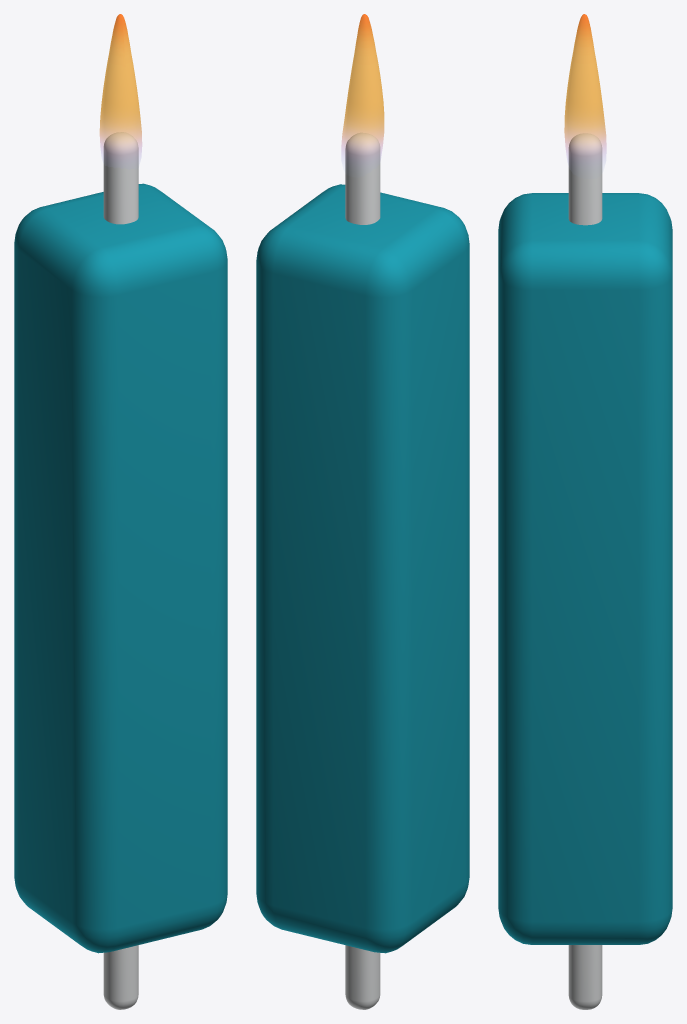
Rendered from JapaneseTall.glb.
The picture shows the model from 3 angles, left to right: view 1: azimuth 30°, elevation 25°; view 2: azimuth 150°, elevation 25°; view 3: azimuth 270°, elevation 25°; orthographic projection.
Parts seen in each view (by area): view 1: XBase.002, XRope01.002, Flame; view 2: XBase.002, XRope01.002, Flame; view 3: XBase.002, XRope01.002, Flame.
Part boxes in pixels (x1=…): XBase.002: x1=14, y1=183, x2=227, y2=953; XRope01.002: x1=103, y1=132, x2=138, y2=1009; Flame: x1=99, y1=14, x2=142, y2=164; XBase.002: x1=256, y1=184, x2=469, y2=953; XRope01.002: x1=345, y1=133, x2=380, y2=1009; Flame: x1=341, y1=14, x2=384, y2=165; XBase.002: x1=498, y1=193, x2=672, y2=944; XRope01.002: x1=568, y1=133, x2=602, y2=1009; Flame: x1=564, y1=14, x2=606, y2=165.
Size of the model in its own units: 0.3674 by 2.31 by 0.3674.
3 materials, 1 textured.
